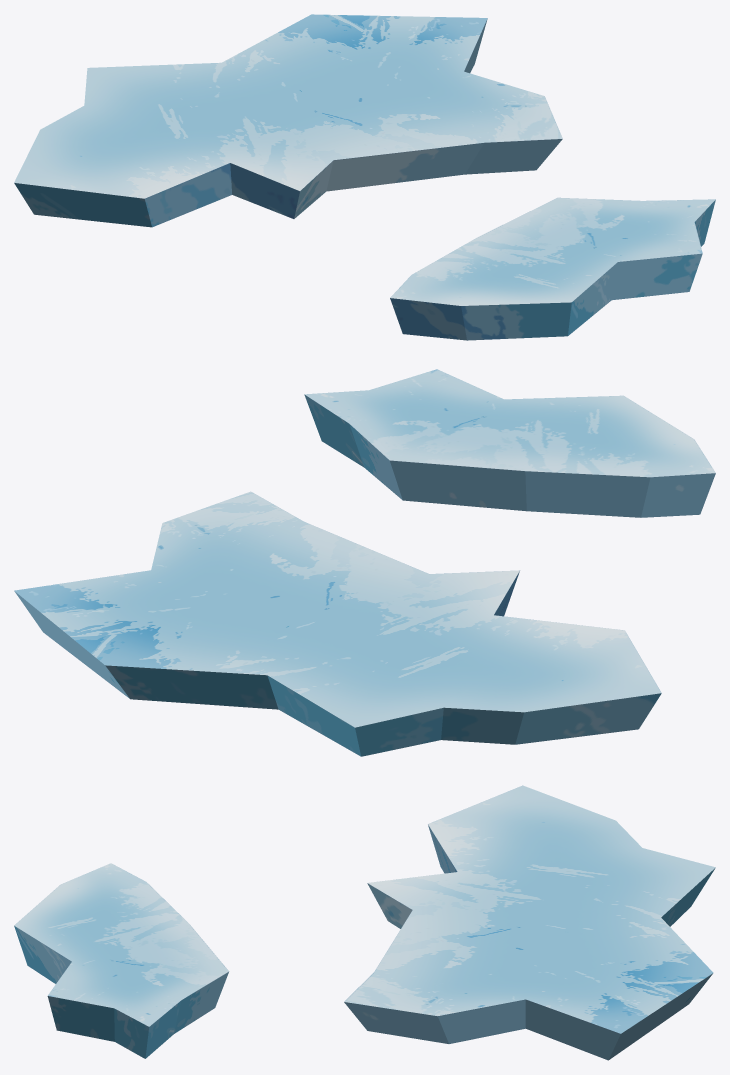
The model's file is ice_floes.glb.
3 renders of one model, top to bottom at view 1: azimuth 30°, elevation 25°; view 2: azimuth 150°, elevation 25°; view 3: azimuth 270°, elevation 25°, orthographic. The views are drawn at different scales.
Visible parts, largest first — view 1: Cube, Cube.001; view 2: Cube, Cube.001; view 3: Cube, Cube.001.
Part boxes in pixels (bbox=[...]): Cube: bbox=[14, 14, 562, 227]; Cube.001: bbox=[390, 197, 715, 340]; Cube: bbox=[14, 491, 661, 756]; Cube.001: bbox=[304, 369, 715, 517]; Cube: bbox=[344, 785, 715, 1060]; Cube.001: bbox=[14, 863, 229, 1058].
Bounding box in the file's own units: 6.42 × 0.4649 × 7.66.
Materials: 2 (2 with a texture image).
